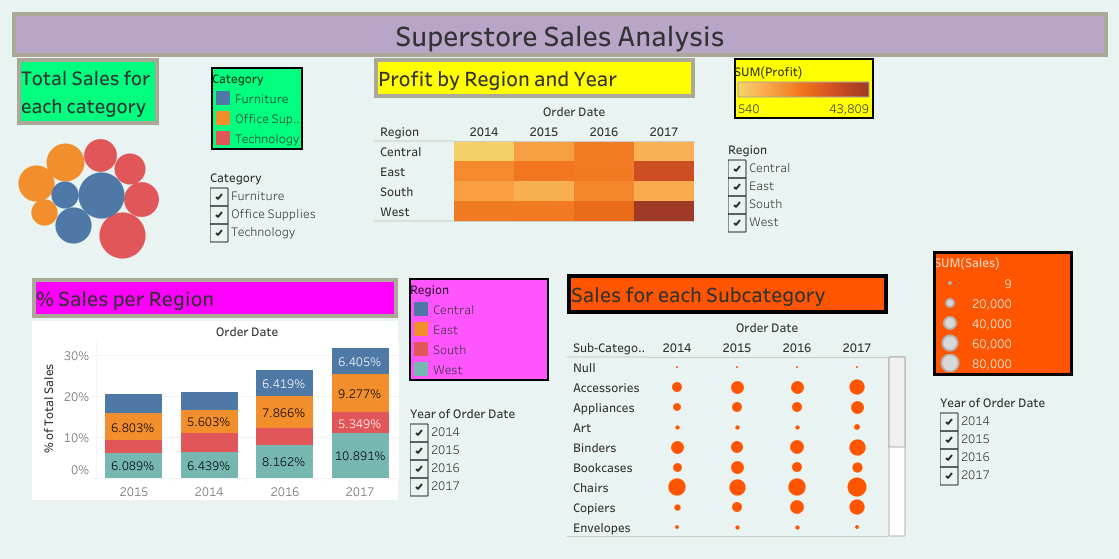

The dashboard page shown, as its layout file describes it:
{"tool":"tableau","page":{"name":"Dashboard 2","canvas":[1000,1000],"units":"permille","ordinal":0},"visuals":[{"type":"title","box":[7.1,13.9,985.7,92]},{"type":"worksheet","title":"total sales","mark":"Circle","box":[15.2,104.2,171.4,378.5]},{"type":"worksheet","title":"profit over region","mark":"Automatic","rows":["Region"],"cols":["Order Date"],"box":[333.9,104.2,286.6,328.1]},{"type":"legend","title":"profit over region","param":"[federated.1ek0nux1bpg2y91azb32f1fnhd6h].[sum:Profit:qk]","box":[655.4,104.2,125,131.9]},{"type":"legend","title":"total sales","param":"[federated.1ek0nux1bpg2y91azb32f1fnhd6h].[none:Category:nk]","box":[188.4,119.8,82.1,166.7]},{"type":"filter","title":"profit over region","param":"[federated.1ek0nux1bpg2y91azb32f1fnhd6h].[none:Region:nk]","box":[650,248.3,142.9,206.6]},{"type":"filter","title":"total sales","param":"[federated.1ek0nux1bpg2y91azb32f1fnhd6h].[none:Category:nk]","box":[187.5,298.6,109.8,168.4]},{"type":"legend","title":"sales of subcats","param":"[federated.1ek0nux1bpg2y91azb32f1fnhd6h].[sum:Sales:qk]","box":[833,447.9,125,224]},{"type":"worksheet","title":"sales of subcats","mark":"Circle","rows":["Sub-Category"],"cols":["Order Date"],"box":[506.2,489.6,326.8,468.8]},{"type":"worksheet","title":"% of sales","mark":"Bar","rows":["Sales"],"cols":["Order Date"],"box":[28.6,496.5,326.8,395.8]},{"type":"legend","title":"% of sales","param":"[federated.1ek0nux1bpg2y91azb32f1fnhd6h].[none:Region:nk]","box":[365.2,496.5,125,192.7]},{"type":"filter","title":"sales of subcats","param":"[federated.1ek0nux1bpg2y91azb32f1fnhd6h].[yr:Order Date:ok]","box":[839.3,699.6,142.9,206.6]},{"type":"filter","title":"% of sales","param":"[federated.1ek0nux1bpg2y91azb32f1fnhd6h].[yr:Order Date:ok]","box":[366.1,720.5,109.8,204.9]}]}

Visuals, with their boxes on the dashboard's canvas, which has no fixed pixel size, in thousandths of its width and height (x1, y1, x2, y2). These are canvas units, not pixel positions in the 1119x559 screenshot, which may show the page scaled, cropped or inside an application window:
title: bbox=[7, 14, 993, 106]
"total sales" worksheet (Circle marks): bbox=[15, 104, 187, 483]
"profit over region" worksheet: bbox=[334, 104, 620, 432]
"profit over region" legend: bbox=[655, 104, 780, 236]
"total sales" legend: bbox=[188, 120, 270, 286]
"profit over region" filter: bbox=[650, 248, 793, 455]
"total sales" filter: bbox=[188, 299, 297, 467]
"sales of subcats" legend: bbox=[833, 448, 958, 672]
"sales of subcats" worksheet (Circle marks): bbox=[506, 490, 833, 958]
"% of sales" worksheet (Bar marks): bbox=[29, 496, 355, 892]
"% of sales" legend: bbox=[365, 496, 490, 689]
"sales of subcats" filter: bbox=[839, 700, 982, 906]
"% of sales" filter: bbox=[366, 720, 476, 925]
